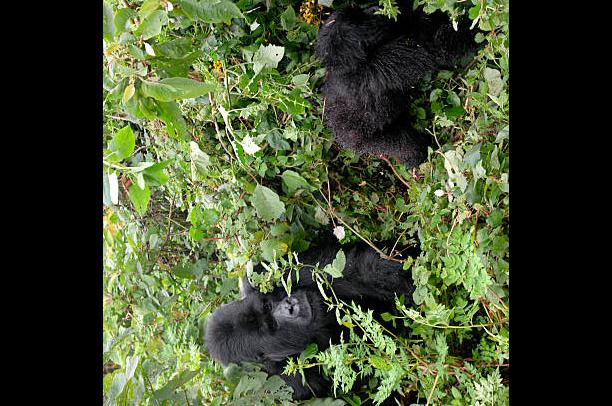goriile_montagne: (208, 250, 371, 374)
